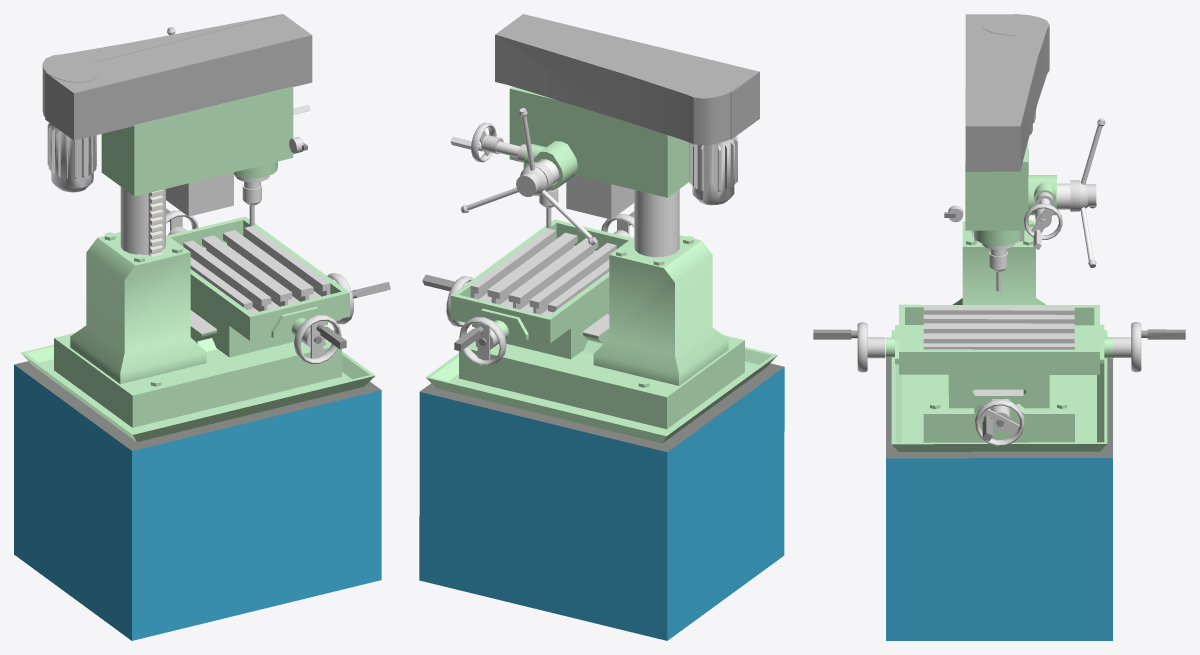
File: drill.glb
3 views of the same model, side by side, from view 1: azimuth 30°, elevation 25°; view 2: azimuth 150°, elevation 25°; view 3: azimuth 270°, elevation 25° (orthographic). The views are drawn at different scales.
Parts seen in each view (by area): view 1: Shape_IndexedFaceSet.002, Shape_IndexedFaceSet.014, Shape_IndexedFaceSet.031, Shape_IndexedFaceSet.029, Shape_IndexedFaceSet.007, Shape_IndexedFaceSet.008, Shape_IndexedFaceSet.015, Shape_IndexedFaceSet.001, Shape_IndexedFaceSet.030, Cube, Shape_IndexedFaceSet.018, Shape_IndexedFaceSet.009 (+4 smaller); view 2: Shape_IndexedFaceSet.002, Shape_IndexedFaceSet.014, Shape_IndexedFaceSet.031, Shape_IndexedFaceSet.029, Shape_IndexedFaceSet.007, Shape_IndexedFaceSet.008, Shape_IndexedFaceSet.015, Shape_IndexedFaceSet.001, Shape_IndexedFaceSet.018, Shape_IndexedFaceSet.030, Cube, Shape_IndexedFaceSet.009 (+4 smaller); view 3: Shape_IndexedFaceSet.002, Shape_IndexedFaceSet.031, Shape_IndexedFaceSet.014, Shape_IndexedFaceSet.008, Shape_IndexedFaceSet.015, Shape_IndexedFaceSet.007, Shape_IndexedFaceSet.029, Shape_IndexedFaceSet.001, Shape_IndexedFaceSet.009, Shape_IndexedFaceSet.010, Shape_IndexedFaceSet.003, Shape_IndexedFaceSet.005 (+4 smaller).
Part boxes in pixels (<box>): Shape_IndexedFaceSet.002: <box>14,365,381,640</box>; Shape_IndexedFaceSet.014: <box>54,232,341,427</box>; Shape_IndexedFaceSet.031: <box>42,14,312,140</box>; Shape_IndexedFaceSet.029: <box>101,86,293,196</box>; Shape_IndexedFaceSet.007: <box>183,226,330,313</box>; Shape_IndexedFaceSet.008: <box>168,216,350,340</box>; Shape_IndexedFaceSet.015: <box>21,344,375,441</box>; Shape_IndexedFaceSet.001: <box>14,361,381,450</box>; Shape_IndexedFaceSet.030: <box>47,123,96,192</box>; Cube: <box>166,172,233,216</box>; Shape_IndexedFaceSet.018: <box>120,187,165,254</box>; Shape_IndexedFaceSet.009: <box>190,298,294,357</box>; Shape_IndexedFaceSet.002: <box>419,367,784,640</box>; Shape_IndexedFaceSet.014: <box>459,235,744,429</box>; Shape_IndexedFaceSet.031: <box>495,14,759,145</box>; Shape_IndexedFaceSet.029: <box>509,86,689,197</box>; Shape_IndexedFaceSet.007: <box>470,228,616,316</box>; Shape_IndexedFaceSet.008: <box>450,219,631,343</box>; Shape_IndexedFaceSet.015: <box>426,347,777,443</box>; Shape_IndexedFaceSet.001: <box>420,363,783,452</box>; Shape_IndexedFaceSet.018: <box>634,189,679,257</box>; Shape_IndexedFaceSet.030: <box>689,136,737,205</box>; Cube: <box>566,175,634,219</box>; Shape_IndexedFaceSet.009: <box>505,300,609,359</box>; Shape_IndexedFaceSet.002: <box>886,458,1112,640</box>; Shape_IndexedFaceSet.031: <box>965,14,1049,171</box>; Shape_IndexedFaceSet.014: <box>923,219,1074,442</box>; Shape_IndexedFaceSet.008: <box>886,304,1114,374</box>; Shape_IndexedFaceSet.015: <box>891,330,1107,451</box>; Shape_IndexedFaceSet.007: <box>923,306,1074,349</box>; Shape_IndexedFaceSet.029: <box>965,88,1028,230</box>; Shape_IndexedFaceSet.001: <box>886,357,1112,458</box>; Shape_IndexedFaceSet.009: <box>948,374,1049,408</box>; Shape_IndexedFaceSet.010: <box>975,399,1024,446</box>; Shape_IndexedFaceSet.003: <box>857,322,885,372</box>; Shape_IndexedFaceSet.005: <box>1113,322,1141,372</box>.
Bounding box in the file's own units: 14.36 × 21.97 × 14.76.
